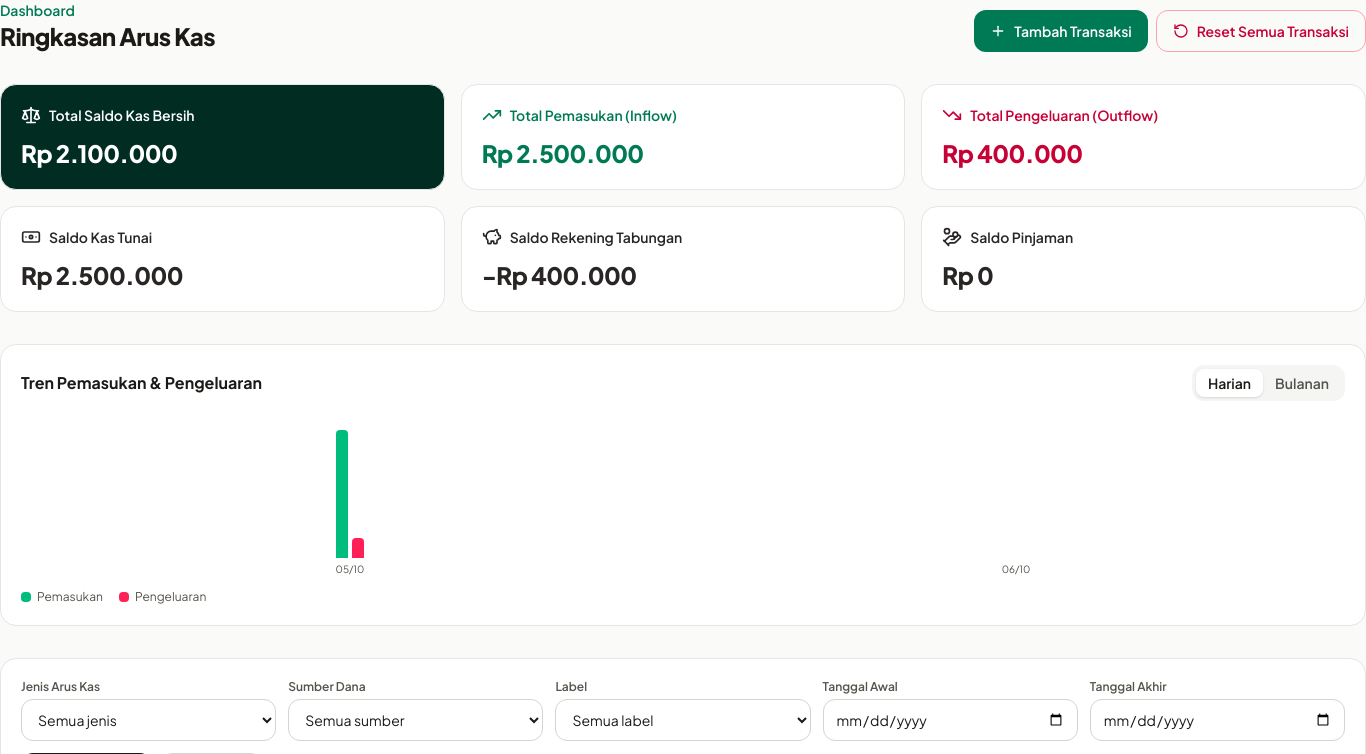
HomePage › menambah transaksi lalu memuat ulang data
Click the button "Tambah Transaksi" at (1061, 31), box [974,10,1148,52]
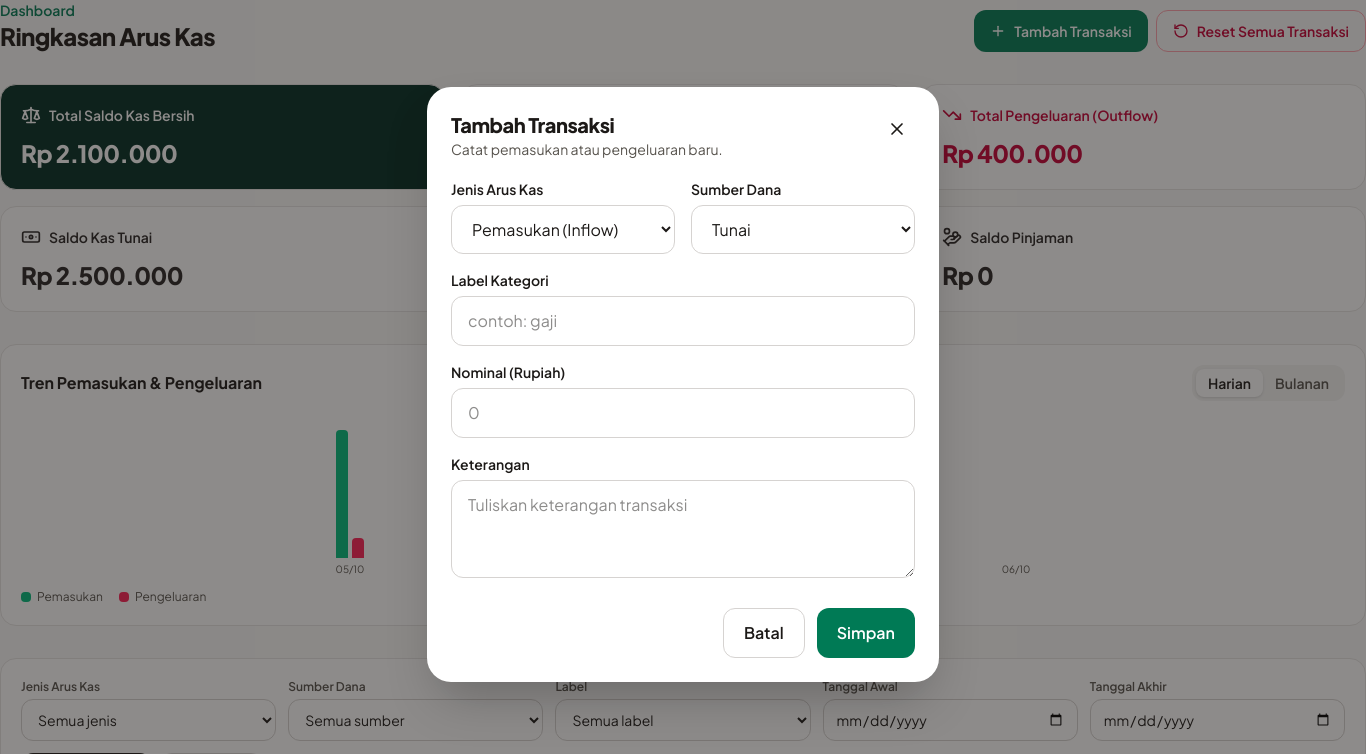
Check: the dialog is shown, box [427,86,939,682]
Type "bonus" into the field labelled "Label Kategori" at (683, 320), box [451,296,915,346]
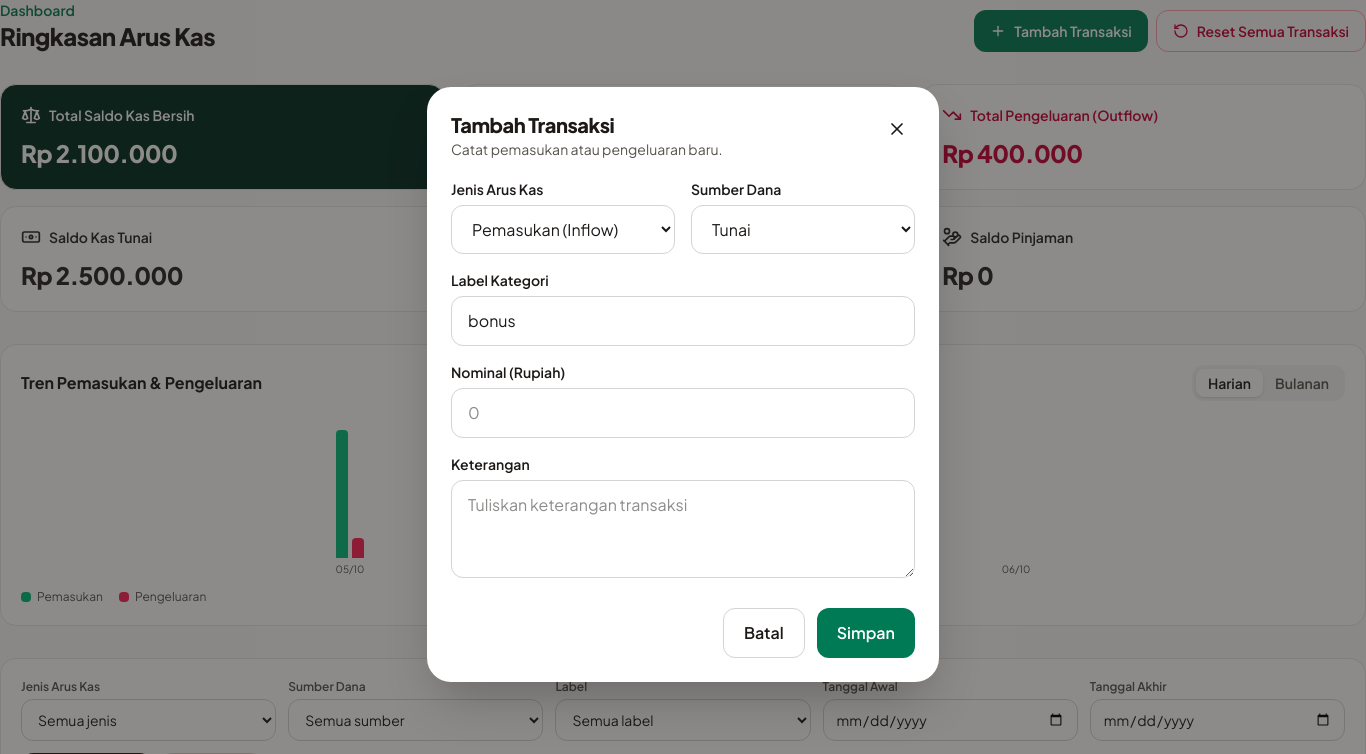
Type "1000" into the number field labelled "Nominal (Rupiah)" at (683, 412), box [451,388,915,438]
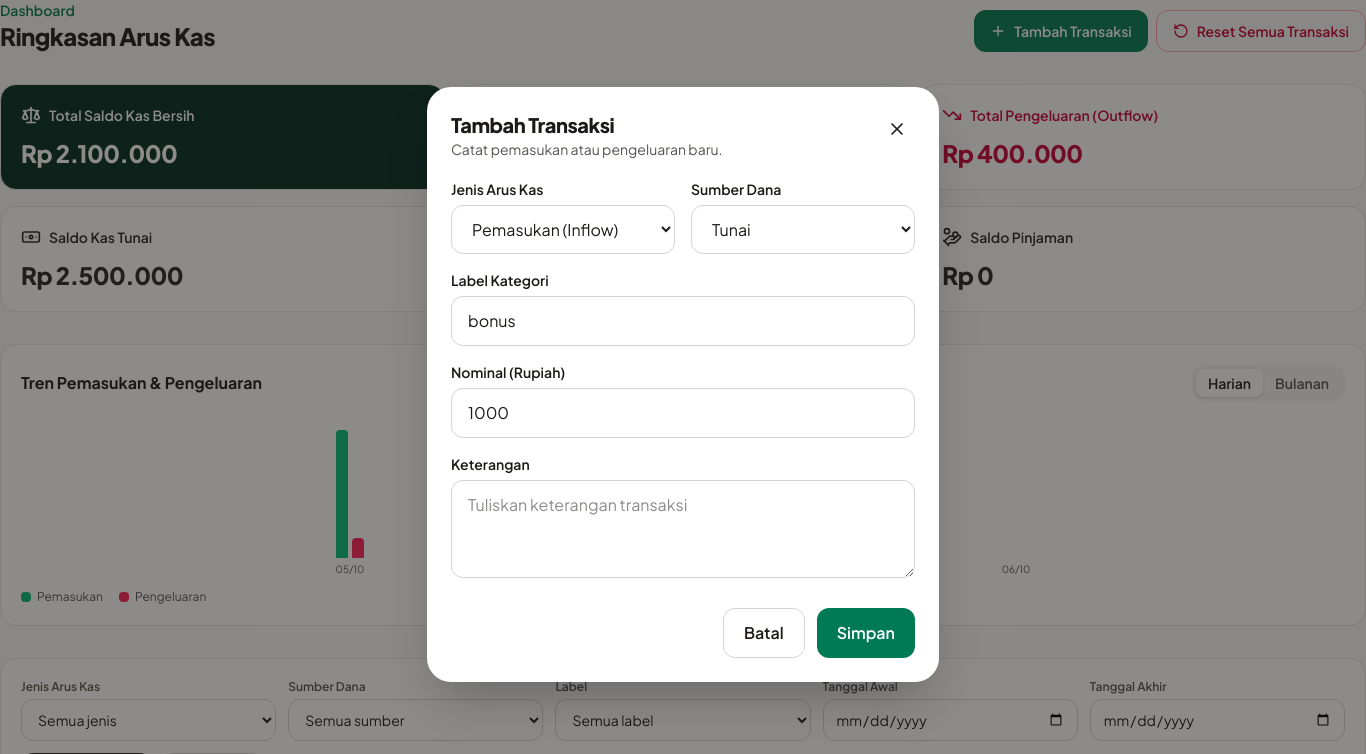
Type "Bonus" into the text box labelled "Keterangan" at (683, 528), box [451,480,915,578]
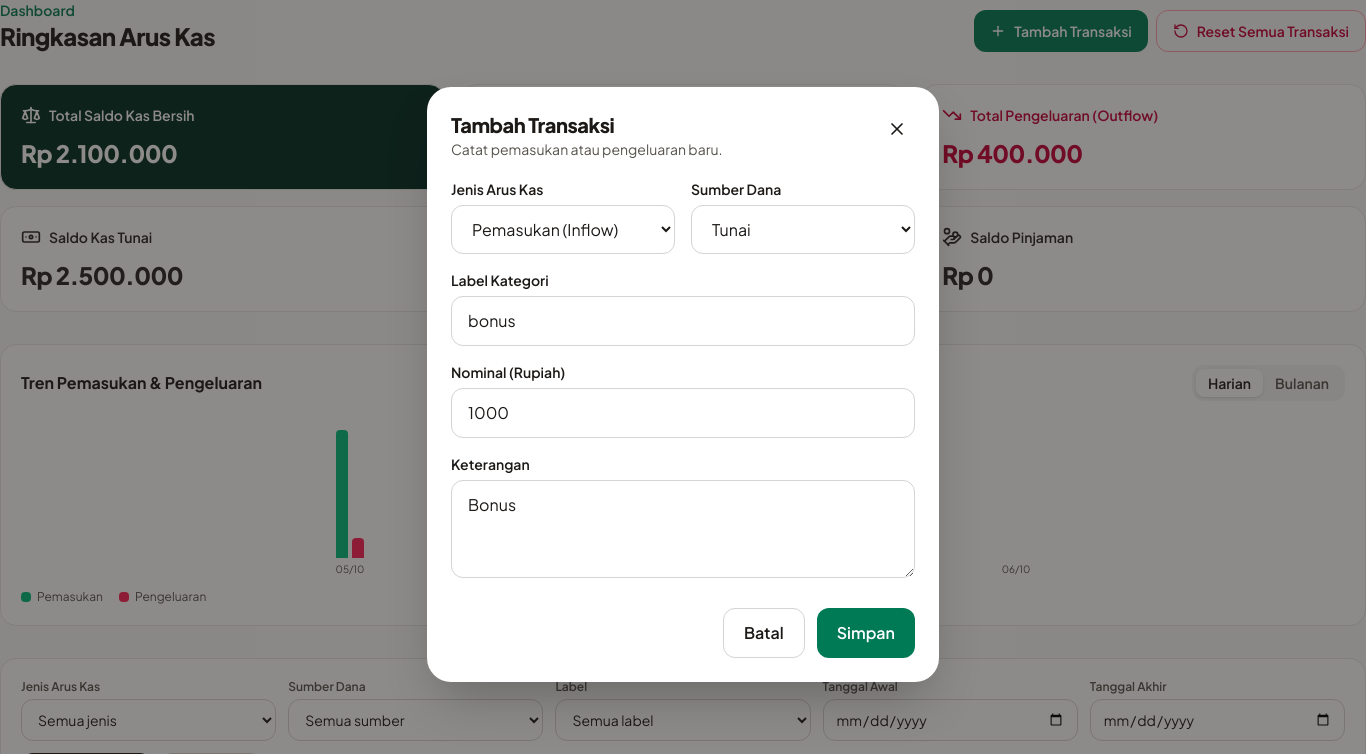
Click the button "Simpan" at (866, 632), box [817,608,915,658]
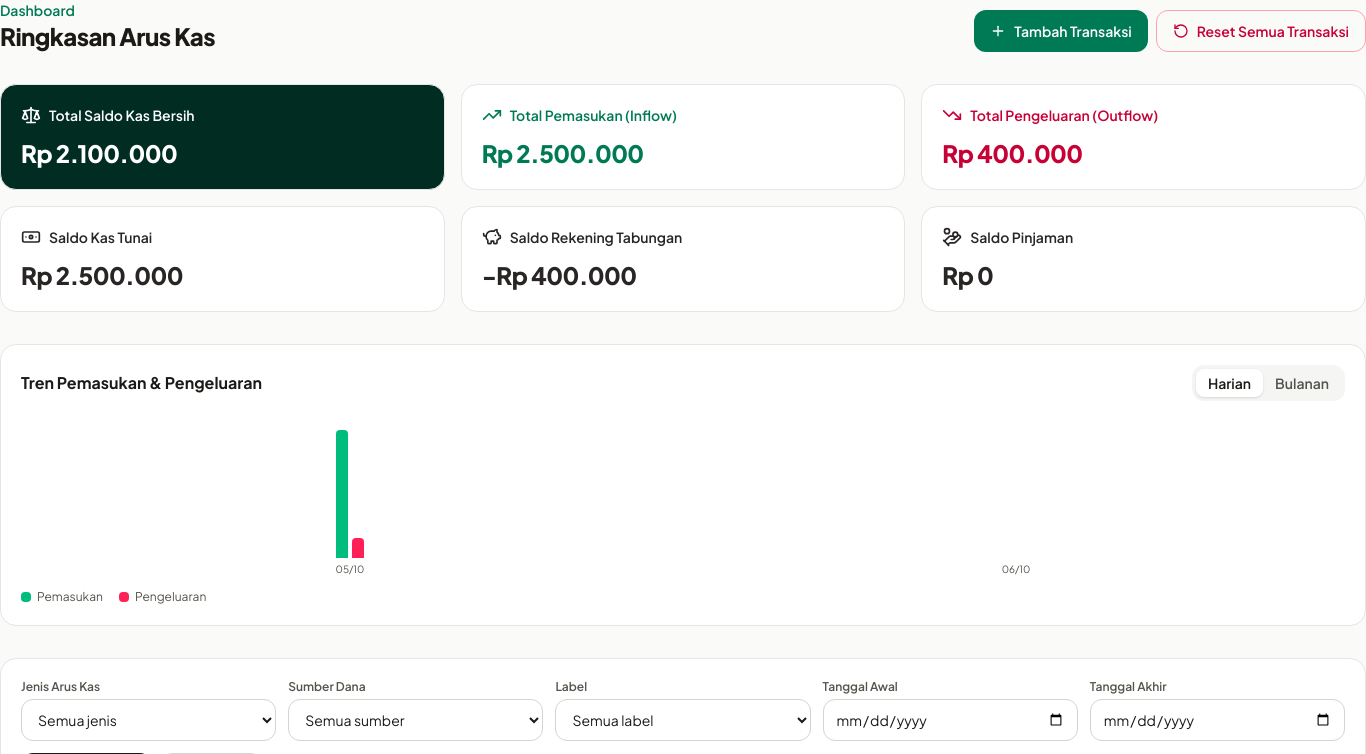
Check: the dialog is gone
